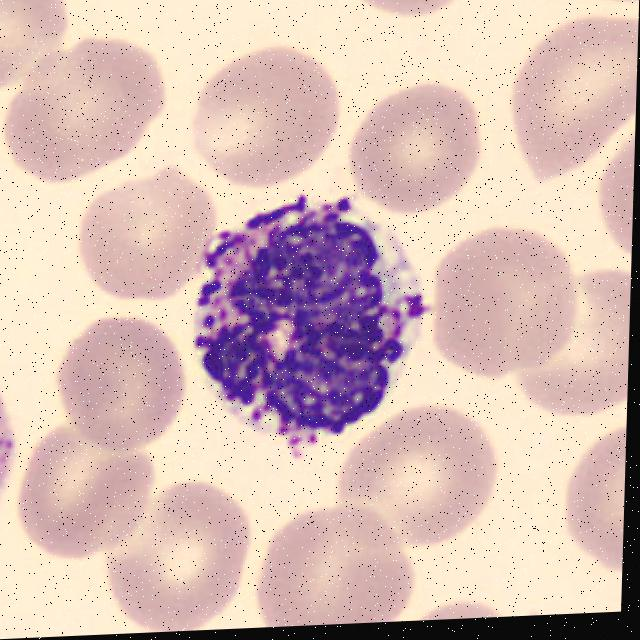basophil: (192, 195, 428, 447)
rbc: (345, 408, 508, 554), (49, 308, 204, 458), (110, 480, 260, 634), (185, 45, 351, 181), (6, 49, 161, 177), (335, 83, 478, 220), (434, 240, 579, 373), (27, 420, 160, 565), (264, 499, 413, 627), (79, 172, 224, 297), (516, 269, 631, 416), (558, 425, 626, 583), (0, 0, 84, 94), (347, 0, 484, 33), (406, 595, 521, 621), (546, 593, 622, 615), (553, 0, 640, 14)
